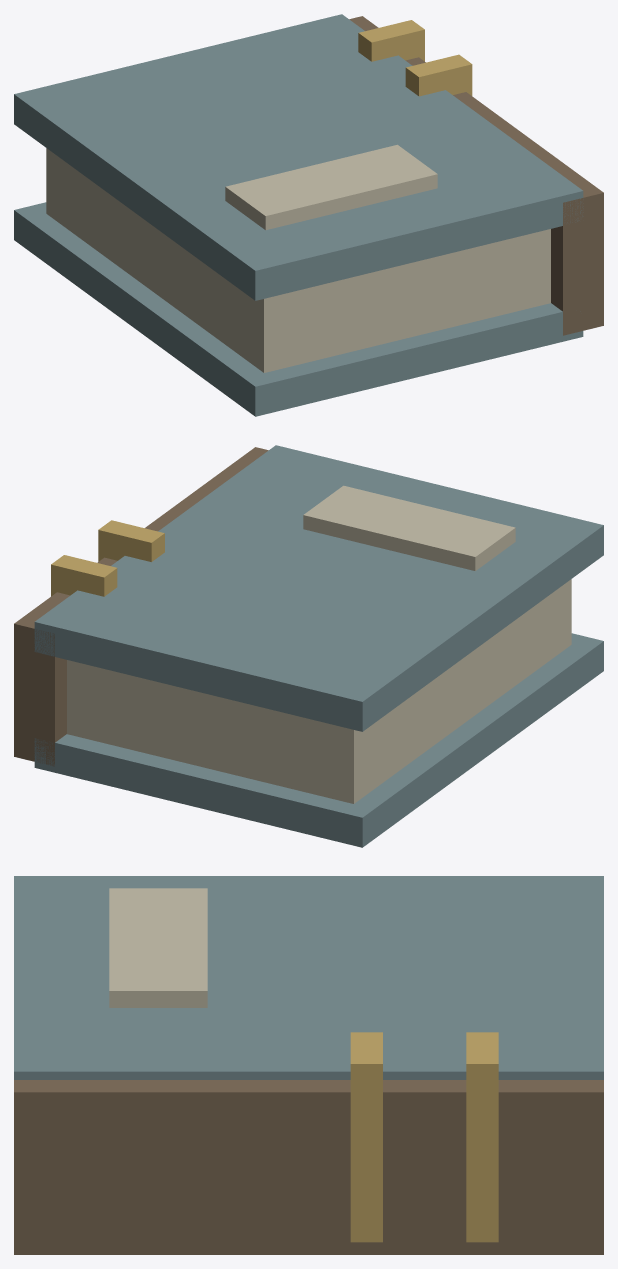
Rendered from spread-portable-codex03.fbx.
3 views of the same model, one above another, from view 1: azimuth 30°, elevation 25°; view 2: azimuth 150°, elevation 25°; view 3: azimuth 270°, elevation 25° (orthographic). The views are drawn at different scales.
Parts seen in each view (by area): view 1: spread-portable-codex03__Geometry; view 2: spread-portable-codex03__Geometry; view 3: spread-portable-codex03__Geometry.
Boxes of the visible parts, x1,y1,x2,y2 form: spread-portable-codex03__Geometry: [14, 14, 603, 416]; spread-portable-codex03__Geometry: [14, 445, 603, 847]; spread-portable-codex03__Geometry: [14, 876, 603, 1254].
Bounding box in the file's own units: 0.4325 × 0.1925 × 0.51.
